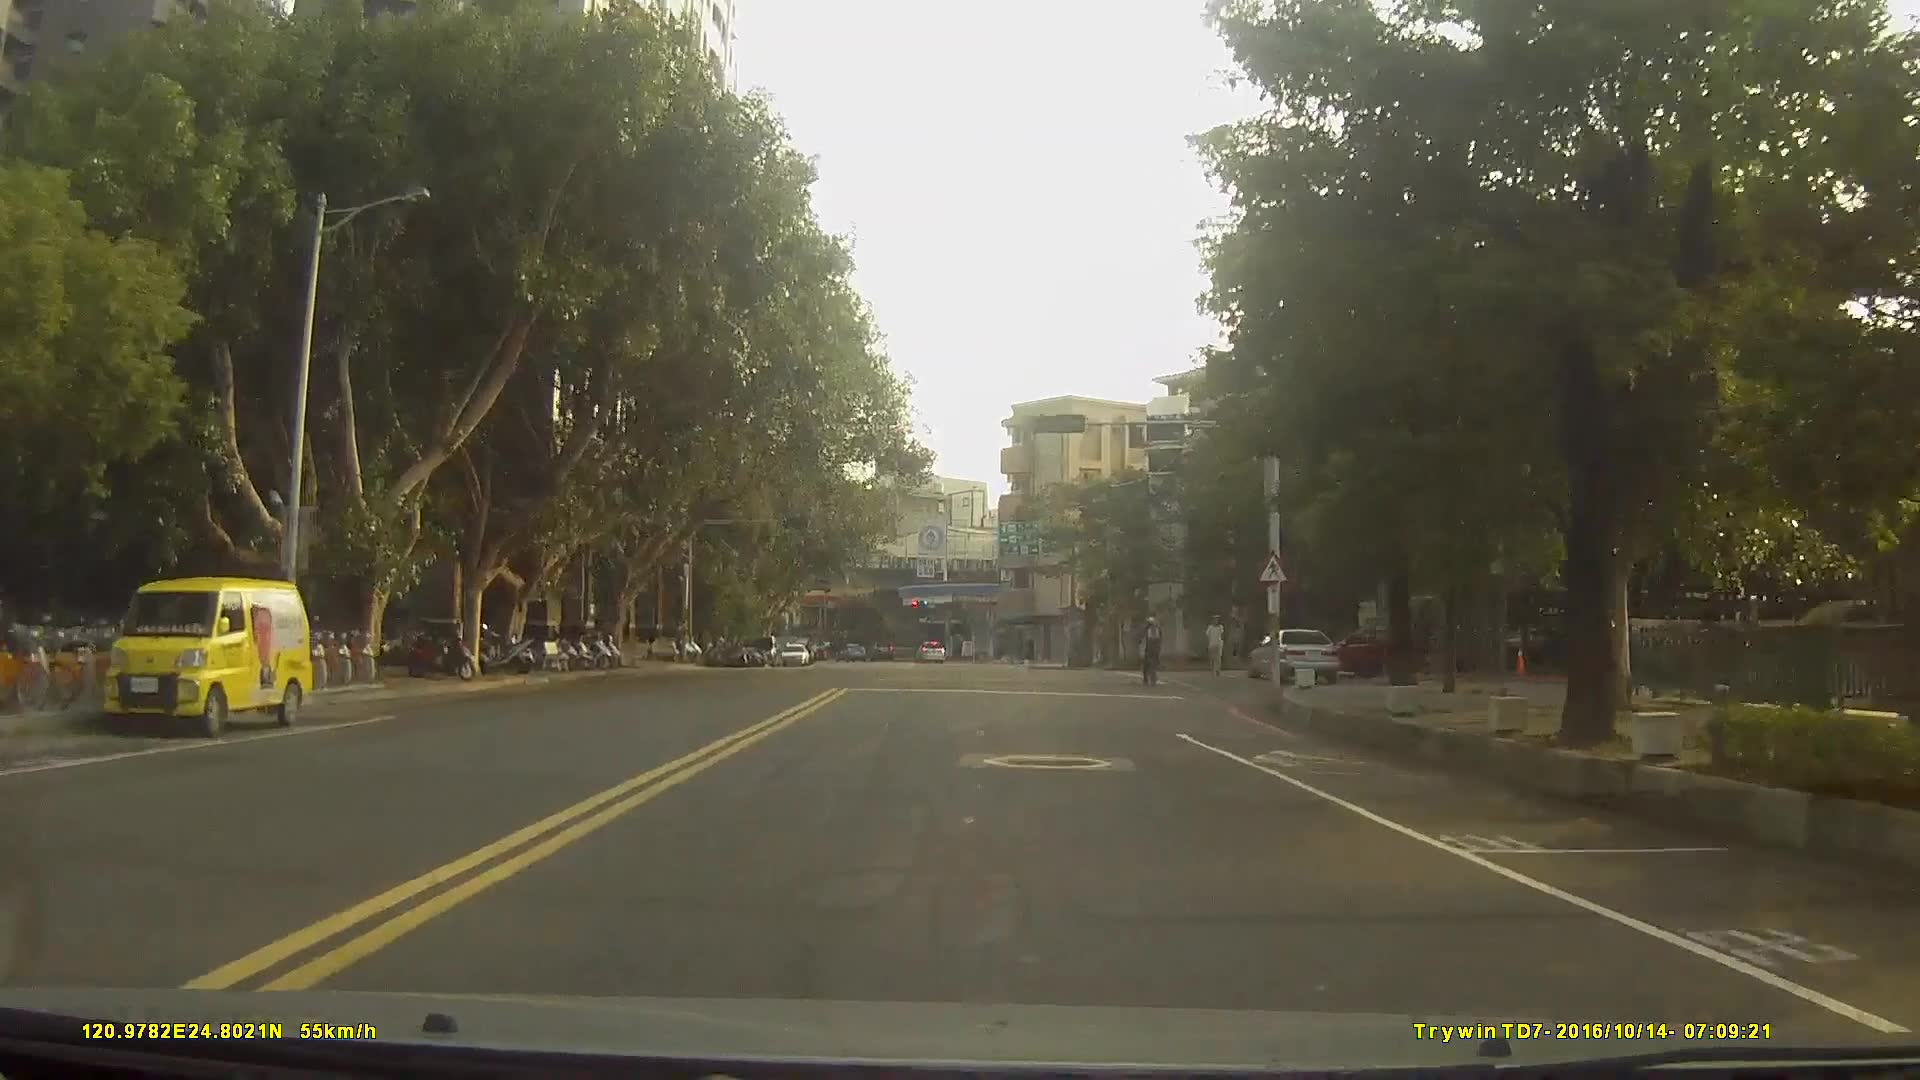pedestrian: (1205, 614, 1232, 684)
rider: (1140, 617, 1168, 688)
vehicle: (1313, 624, 1424, 682), (1248, 627, 1338, 685), (914, 638, 946, 662), (778, 641, 809, 663)
